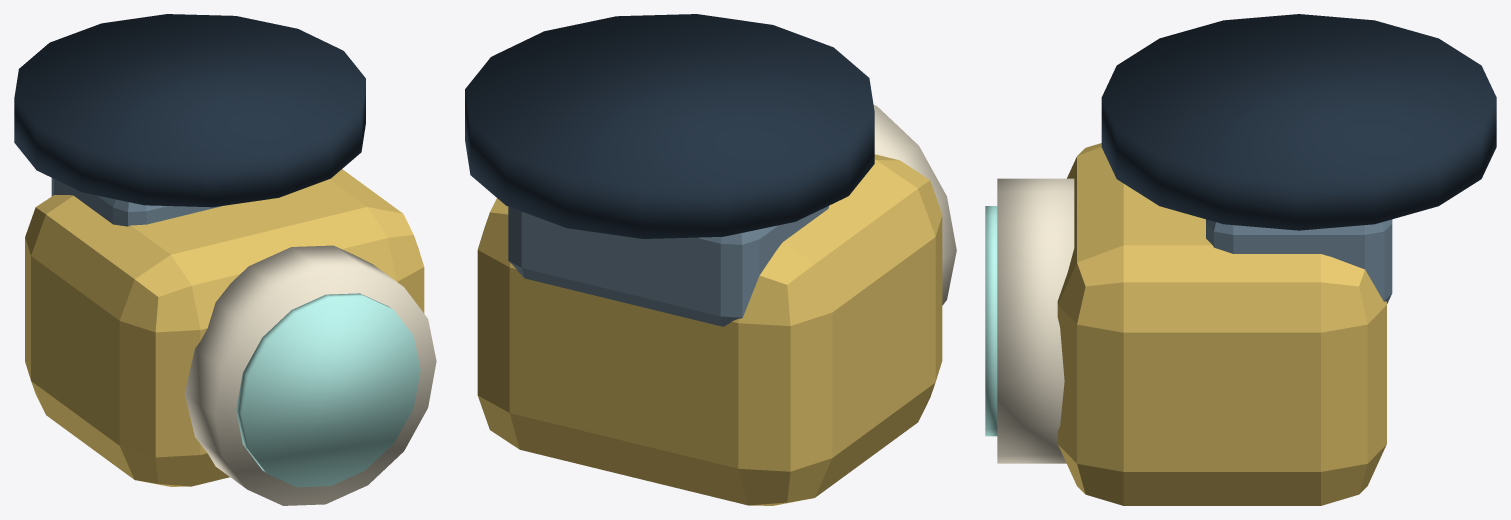
Rendered from light.glb.
3 views of the same model, side by side, from view 1: azimuth 30°, elevation 25°; view 2: azimuth 150°, elevation 25°; view 3: azimuth 270°, elevation 25° (orthographic). The views are drawn at different scales.
Visible parts, largest first — view 1: PitchMesh, lightMesh, YawMesh; view 2: PitchMesh, lightMesh, YawMesh; view 3: PitchMesh, lightMesh, YawMesh.
Boxes of the visible parts, left/top/right/bottom form: PitchMesh: left=25, top=169, right=436, bottom=505; lightMesh: left=14, top=14, right=365, bottom=207; YawMesh: left=51, top=178, right=221, bottom=226; PitchMesh: left=477, top=105, right=956, bottom=505; lightMesh: left=465, top=14, right=874, bottom=238; YawMesh: left=508, top=206, right=828, bottom=326; PitchMesh: left=985, top=143, right=1386, bottom=505; lightMesh: left=1101, top=14, right=1496, bottom=230; YawMesh: left=1206, top=219, right=1392, bottom=303.
Size of the model in its own units: 0.36 by 0.355 by 0.466.
